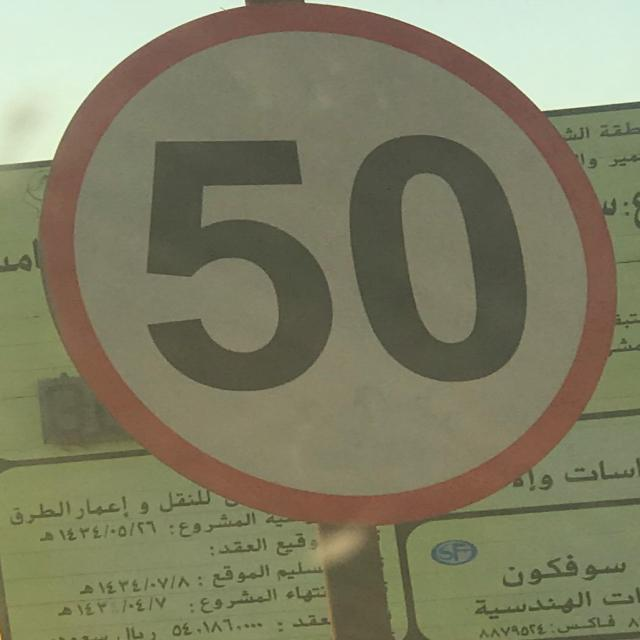Limite-50: (34, 1, 620, 528)
